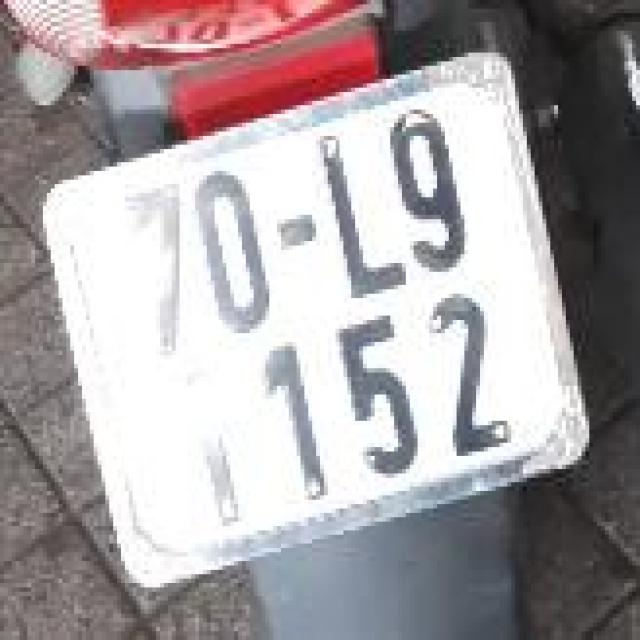0: (184, 149, 288, 356)
1: (249, 328, 349, 520), (161, 356, 256, 546)
2: (421, 273, 537, 470)
5: (321, 297, 440, 496)
7: (110, 167, 205, 373)
9: (376, 77, 485, 287)
L: (298, 110, 414, 317)
